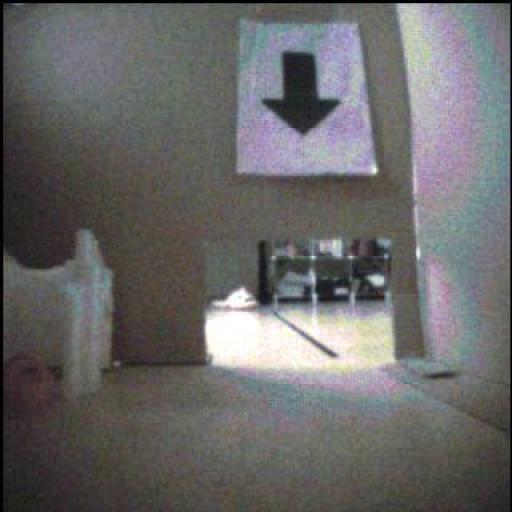arrow: (264, 54, 341, 135)
